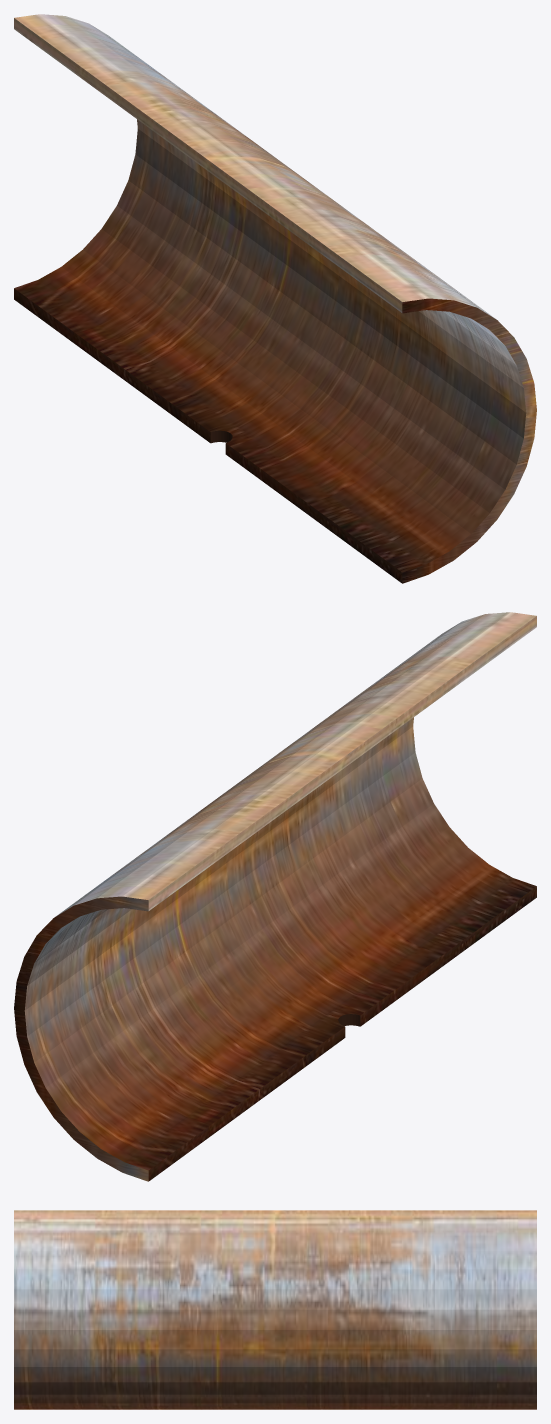
The model's file is PipeWithAHole.fbx.
The picture shows the model from 3 angles, top to bottom: view 1: azimuth 30°, elevation 25°; view 2: azimuth 150°, elevation 25°; view 3: azimuth 270°, elevation 25°; orthographic projection. The views are drawn at different scales.
Visible parts, largest first — view 1: Circle.000; view 2: Circle.000; view 3: Circle.000.
Part boxes in pixels (bbox=[...]): Circle.000: bbox=[14, 14, 536, 583]; Circle.000: bbox=[14, 612, 536, 1181]; Circle.000: bbox=[14, 1210, 536, 1409].
Size of the model in its own units: 100 by 200 by 500.
